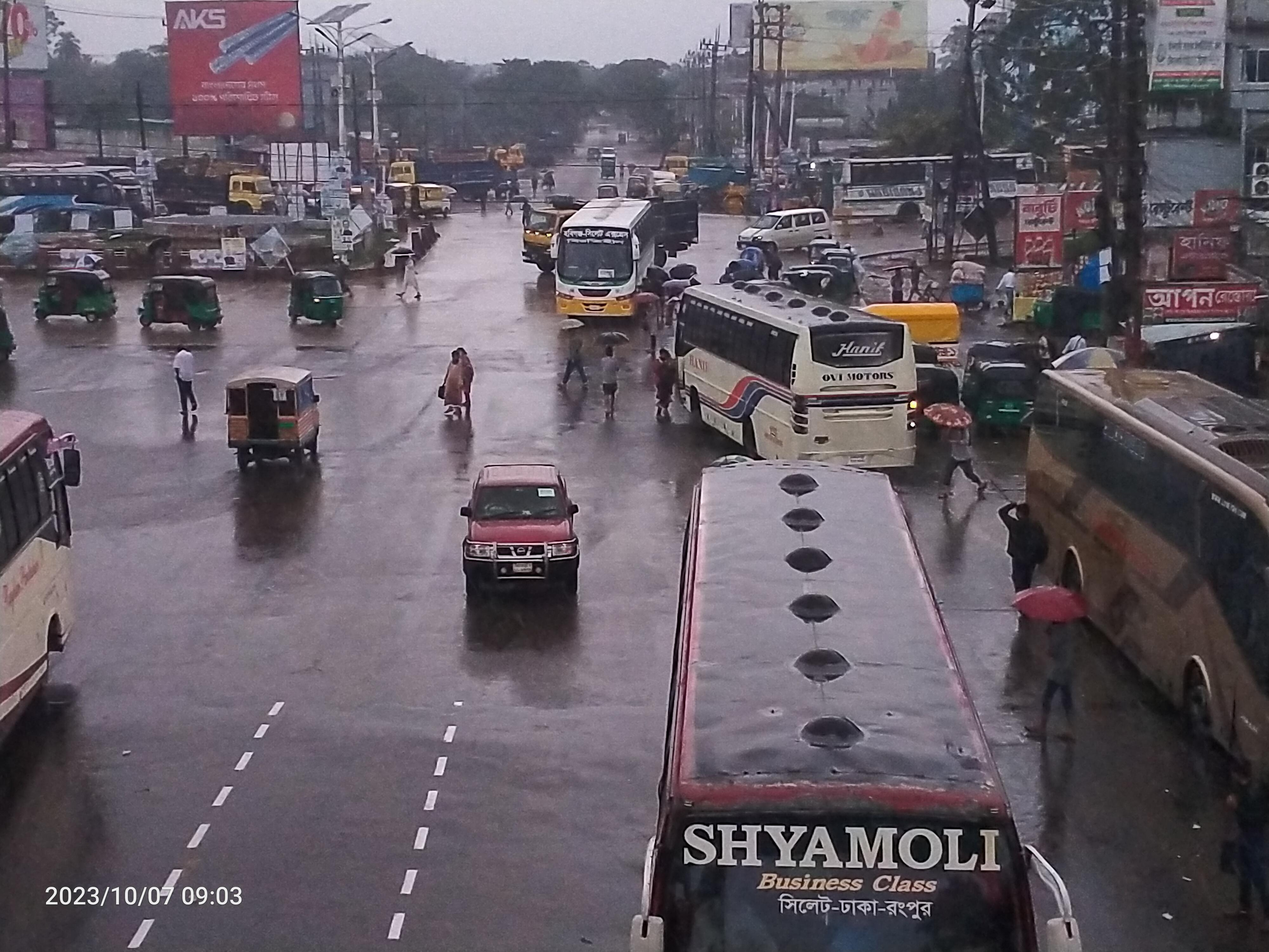Bus: (607, 438, 1115, 952), (1002, 321, 1269, 784), (642, 254, 940, 502), (0, 384, 109, 784), (822, 125, 1071, 223), (533, 176, 683, 327), (0, 145, 163, 270)
Car: (443, 430, 609, 640), (183, 355, 343, 503), (852, 291, 990, 361), (728, 192, 843, 258), (400, 178, 464, 216)
Truck: (154, 155, 284, 217), (500, 198, 595, 281)
